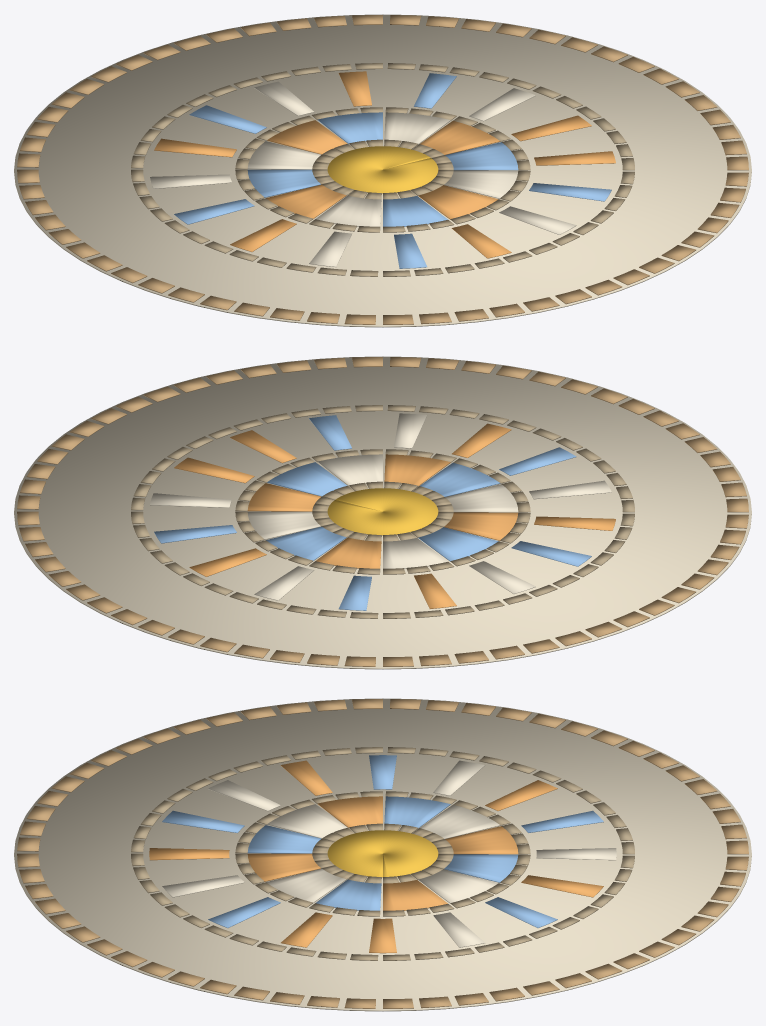
The model's file is festival-floor.glb.
The picture shows the model from 3 angles, top to bottom: view 1: azimuth 30°, elevation 25°; view 2: azimuth 150°, elevation 25°; view 3: azimuth 270°, elevation 25°; orthographic projection.
Visible parts, largest first — view 1: floor; view 2: floor; view 3: floor.
Part boxes in pixels (x1,y1,x2,y2): floor: (14,14,751,327); floor: (14,356,751,669); floor: (14,698,751,1011).
Size of the model in its own units: 12 by 0.035 by 12.
